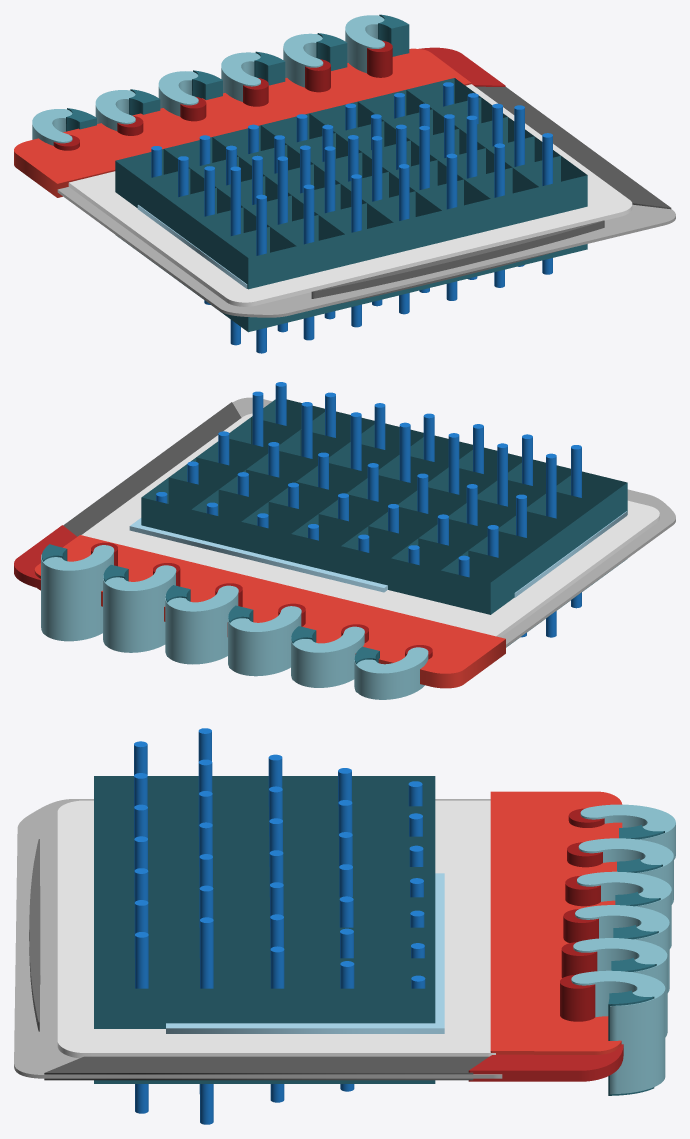
File: emoji_u1f5d3.glb
The picture shows the model from 3 angles, top to bottom: view 1: azimuth 30°, elevation 25°; view 2: azimuth 150°, elevation 25°; view 3: azimuth 270°, elevation 25°; orthographic projection. The views are drawn at different scales.
Visible parts, largest first — view 1: emoji_u1f5d3; view 2: emoji_u1f5d3; view 3: emoji_u1f5d3.
Part boxes in pixels (left/top/right/bottom): emoji_u1f5d3: left=14, top=14, right=675, bottom=353; emoji_u1f5d3: left=14, top=382, right=675, bottom=699; emoji_u1f5d3: left=14, top=728, right=675, bottom=1124.
Bounding box in the file's own units: 0.0323 × 0.0122 × 0.0327.
